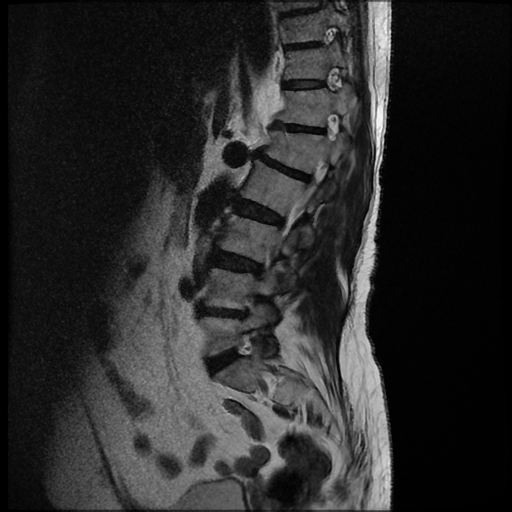RFS0: (222, 329, 262, 370)
RFS3: (228, 289, 267, 326)
